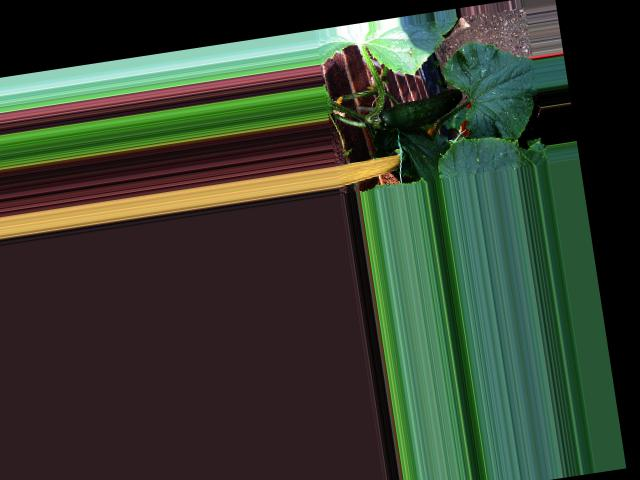cucumber: (376, 86, 466, 132)
